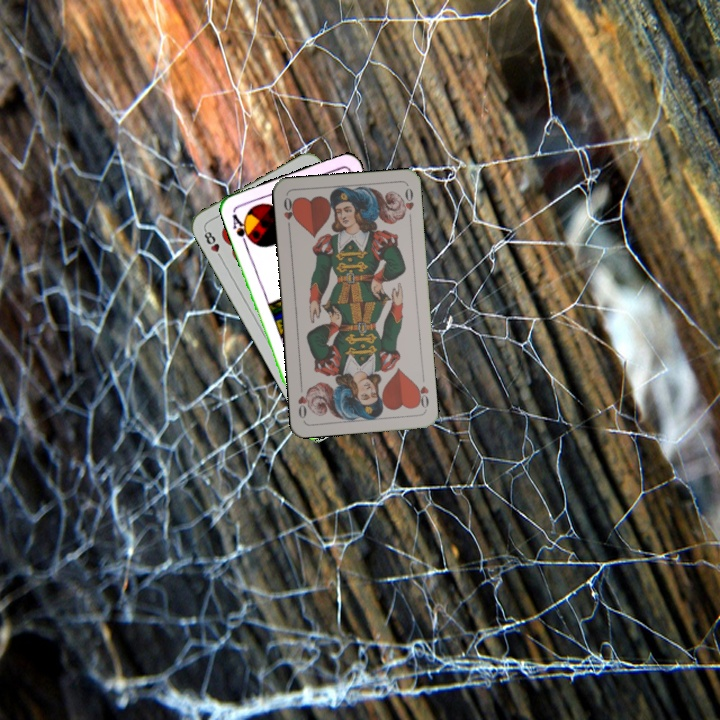H8: (200, 225, 225, 262)
HO: (279, 193, 298, 233), (412, 380, 431, 412)
SA: (228, 208, 255, 247)
